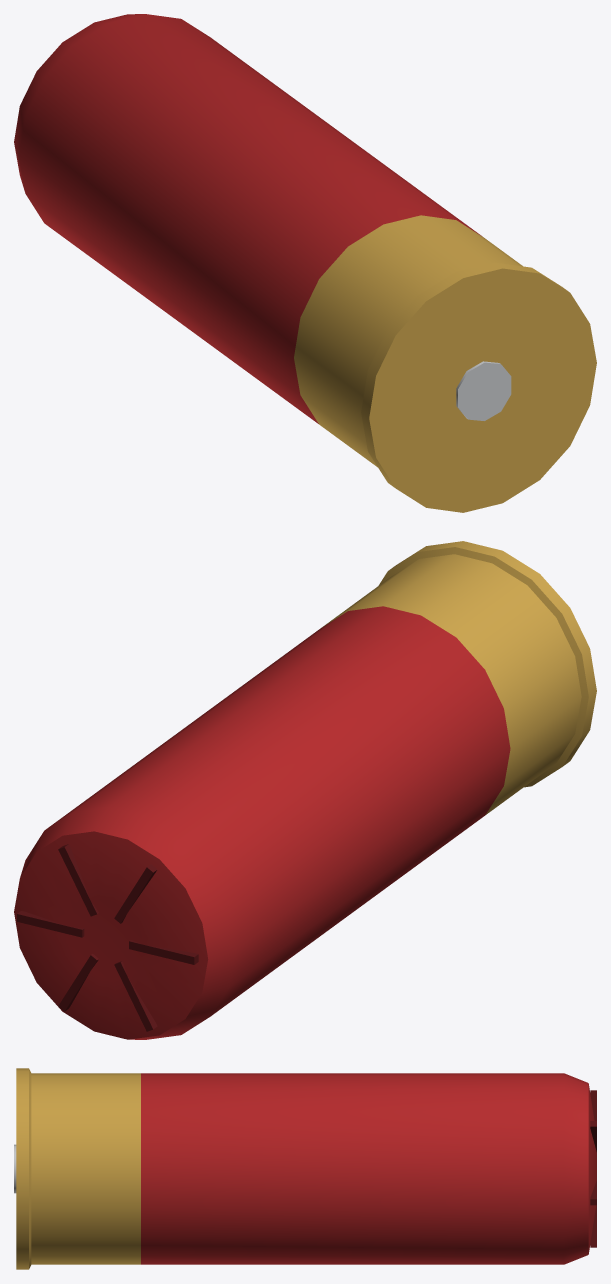
The model's file is shotgun_shell.glb.
The picture shows the model from 3 angles, top to bottom: view 1: azimuth 30°, elevation 25°; view 2: azimuth 150°, elevation 25°; view 3: azimuth 270°, elevation 25°; orthographic projection. The views are drawn at different scales.
Parts seen in each view (by area): view 1: shotgun_shell; view 2: shotgun_shell; view 3: shotgun_shell.
Boxes of the visible parts, x1,y1,x2,y2 form: shotgun_shell: (14, 14, 596, 512); shotgun_shell: (14, 541, 596, 1039); shotgun_shell: (14, 1068, 596, 1269).
Bounding box in the file's own units: 0.024 × 0.0236 × 0.0691.
